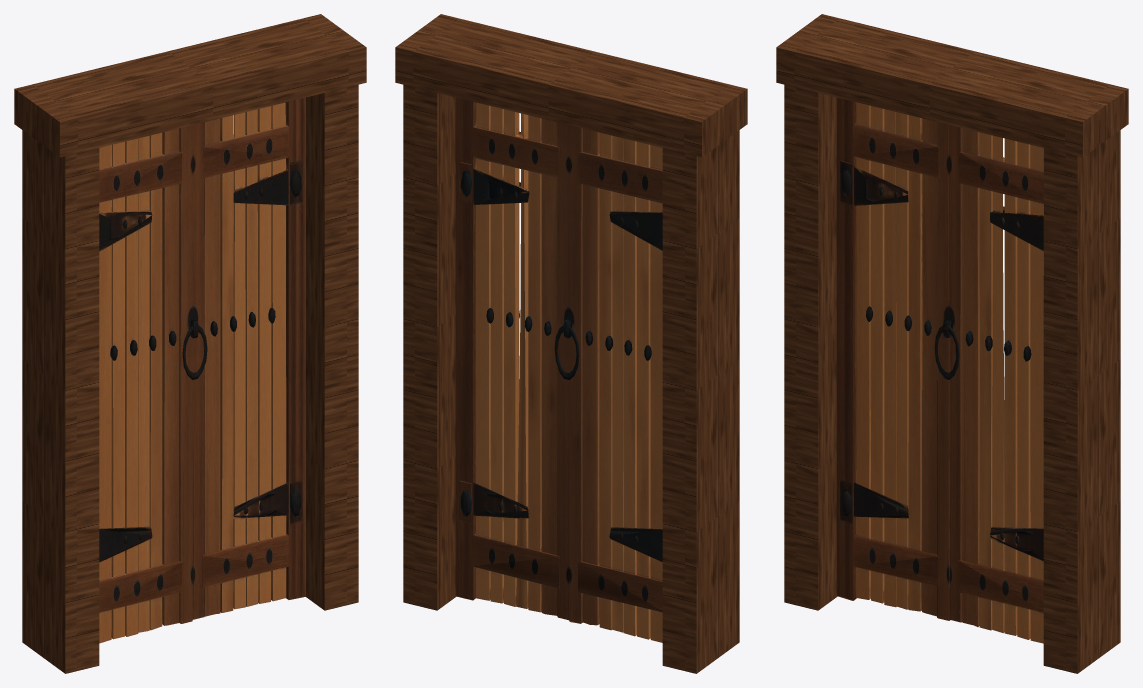
Rendered from door-studded.glb.
The picture shows the model from 3 angles, left to right: view 1: azimuth 30°, elevation 25°; view 2: azimuth 150°, elevation 25°; view 3: azimuth 330°, elevation 25°; orthographic projection.
Visible parts, largest first — view 1: Leaf, Frame; view 2: Leaf, Frame; view 3: Leaf, Frame.
Boxes of the visible parts, x1=… form: Leaf: x1=99, y1=97, x2=305, y2=643; Frame: x1=14, y1=14, x2=366, y2=673; Leaf: x1=455, y1=97, x2=662, y2=642; Frame: x1=395, y1=14, x2=747, y2=673; Leaf: x1=836, y1=97, x2=1043, y2=643; Frame: x1=776, y1=14, x2=1128, y2=673.
Size of the model in its own units: 1.36 by 2.35 by 0.35.
2 materials, 2 textured.
